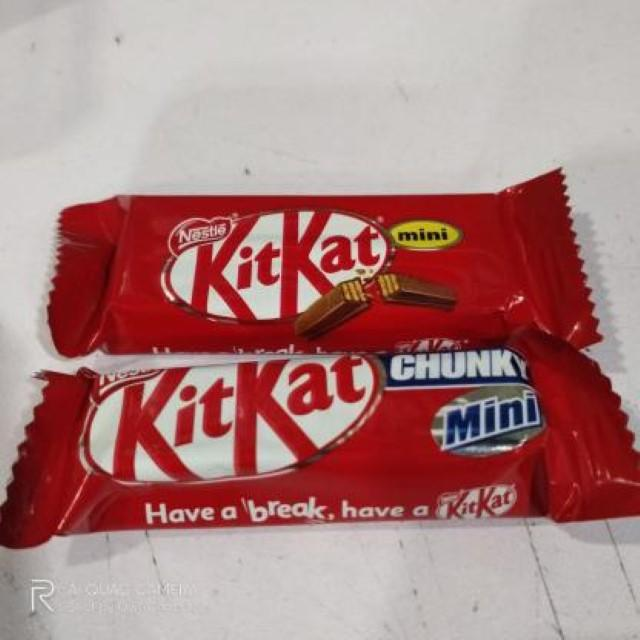kitkat_chocolate: (40, 350, 630, 557), (78, 193, 597, 337)
